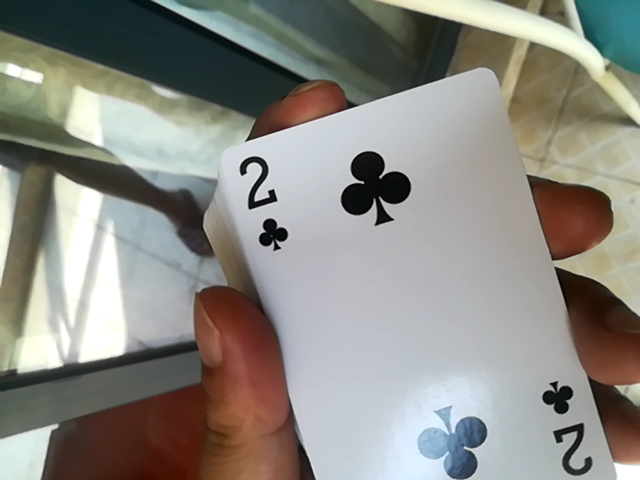mh 2: (205, 70, 625, 480)
